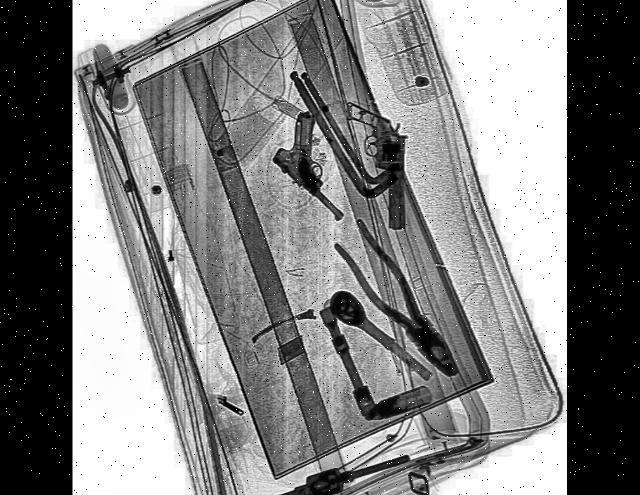Gun: (274, 104, 368, 228), (346, 103, 408, 230)
Pliers: (332, 210, 472, 397)
